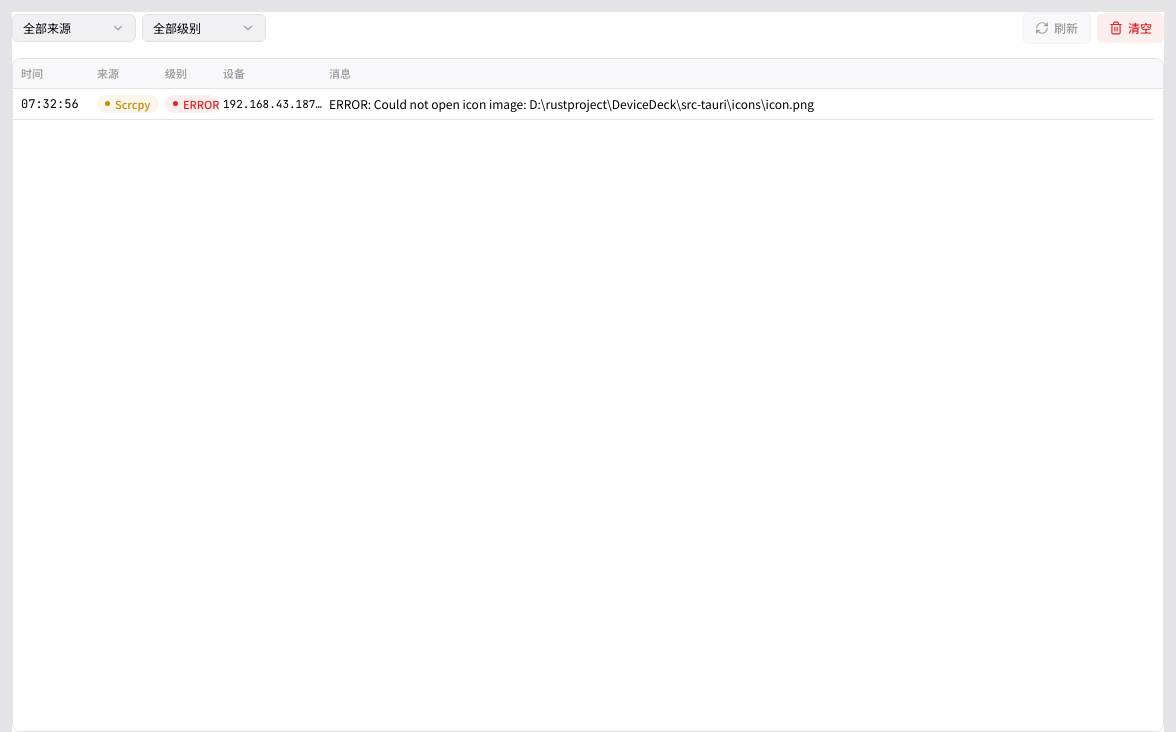
Test case: LogsPage › expands a log row to show the full message
Expected: the text "日志详情" is not shown
Click the button "ERROR: Could not open icon image" at (418, 104), box [21,94,814,113]
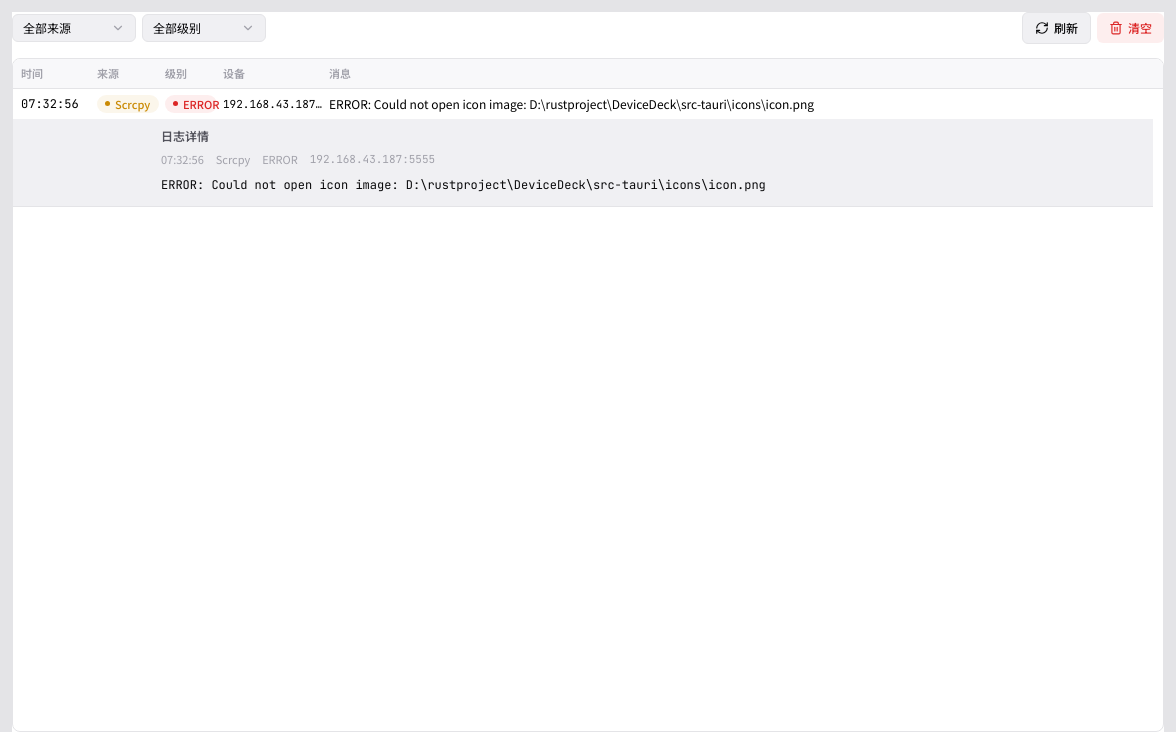
Now the text "日志详情" is shown, box [161,127,209,144]
Now the text "ERROR: Could not open icon image: D:\\rustproject\\DeviceDeck\\src-tauri\\icons\\icon.png" below "日志详情" is shown, box [161,177,766,193]
Now the text "192.168.43.187:5555" below "日志详情" is shown, box [310,152,435,166]
